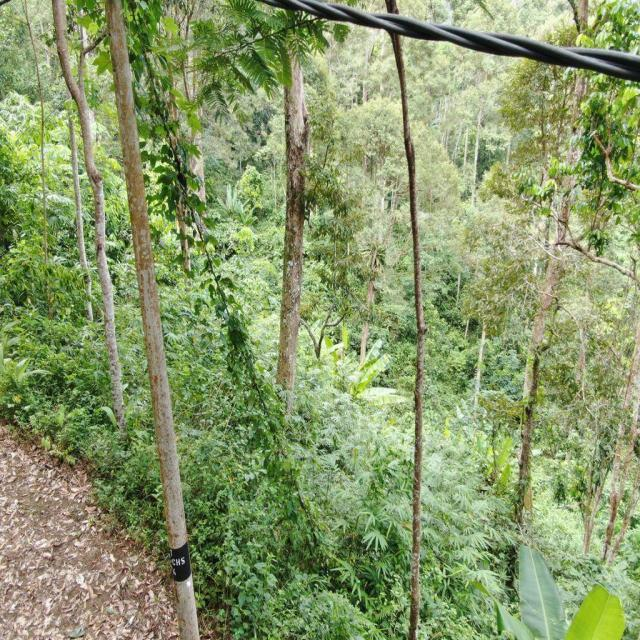critical vegetation: (131, 36, 344, 591)
